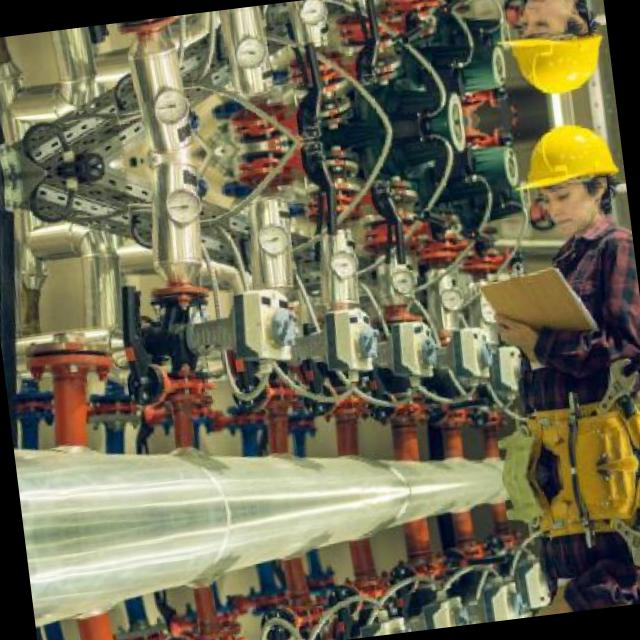helmet: (508, 108, 628, 244), (490, 0, 610, 107)
